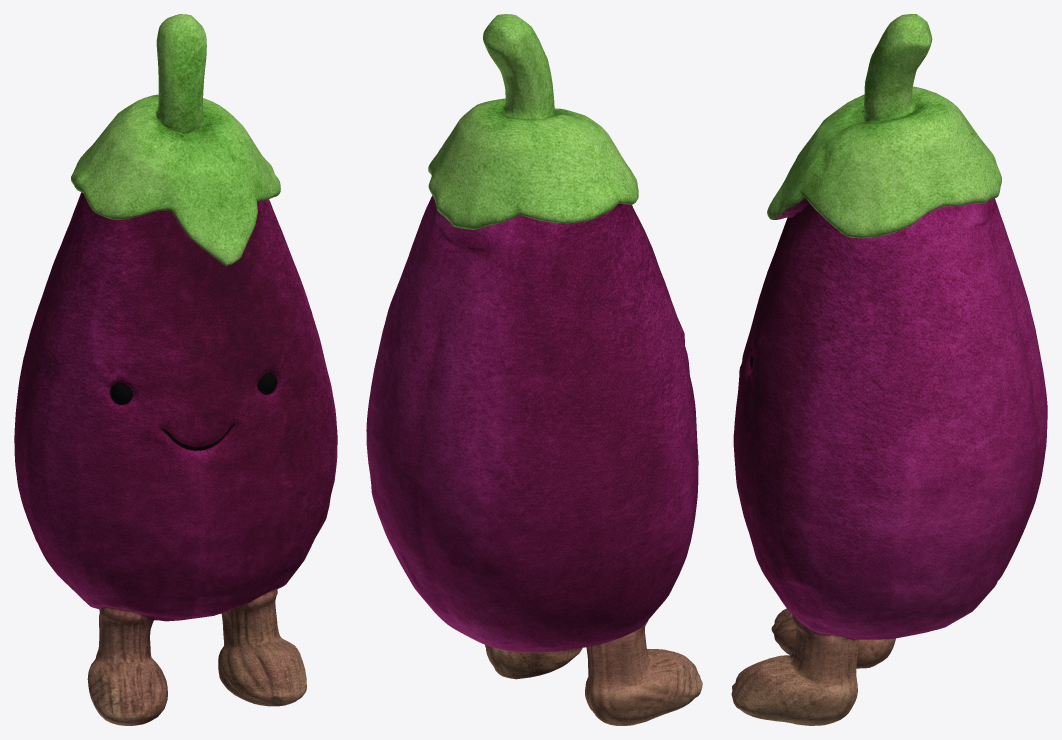
Rendered from aubergine_hero.glb.
The picture shows the model from 3 angles, left to right: view 1: azimuth 30°, elevation 25°; view 2: azimuth 150°, elevation 25°; view 3: azimuth 270°, elevation 25°; orthographic projection. The views are drawn at different scales.
Bounding box in the file's own units: 0.389 × 0.8661 × 0.3587.
Materials: 1 (1 with a texture image).
